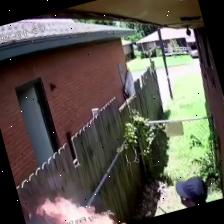person: (175, 177, 207, 207)
